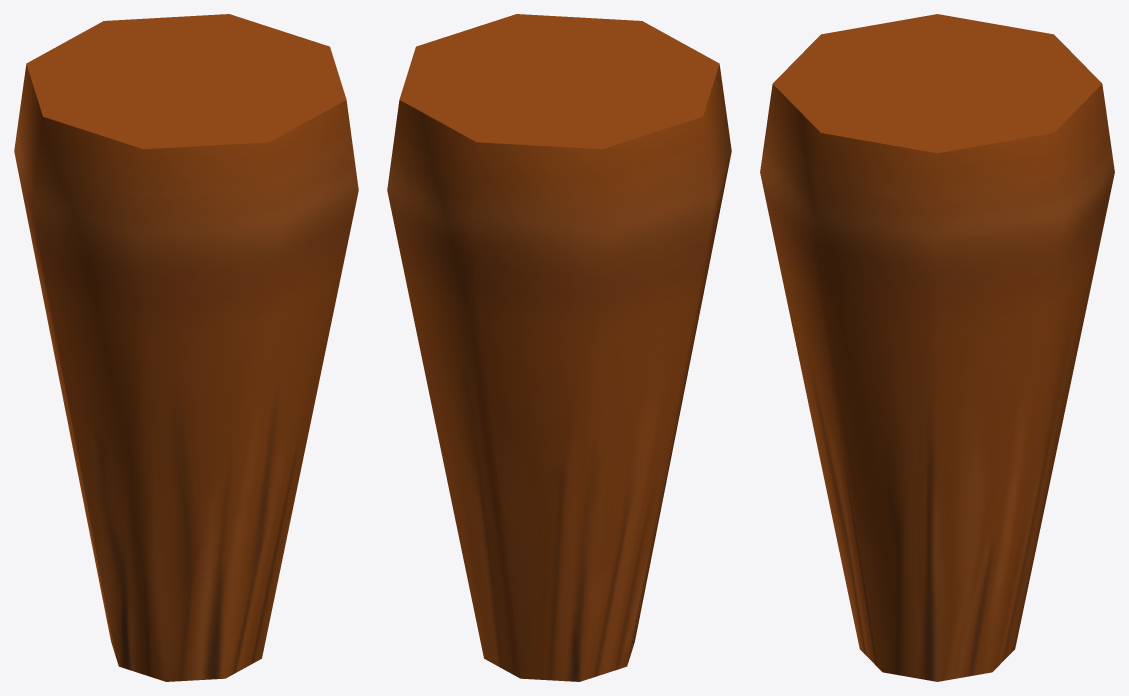
Rendered from LatchPoint.fbx.
3 views of the same model, side by side, from view 1: azimuth 30°, elevation 25°; view 2: azimuth 150°, elevation 25°; view 3: azimuth 270°, elevation 25° (orthographic).
Parts seen in each view (by area): view 1: AnchorPoint; view 2: AnchorPoint; view 3: AnchorPoint.
Part boxes in pixels (box(x1,y1,x2,y2)): AnchorPoint: box(14, 14, 358, 681); AnchorPoint: box(387, 14, 731, 681); AnchorPoint: box(760, 14, 1114, 681).
Bounding box in the file's own units: 7.59 × 13.35 × 7.59.
